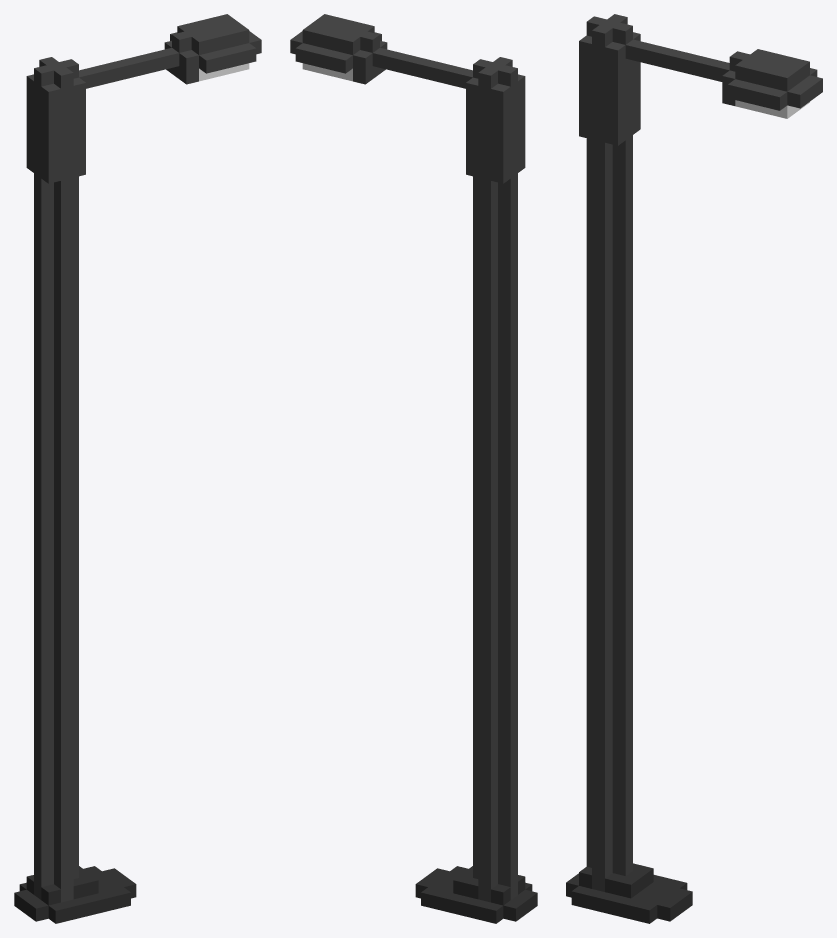
The model's file is light.obj.
The picture shows the model from 3 angles, left to right: view 1: azimuth 30°, elevation 25°; view 2: azimuth 150°, elevation 25°; view 3: azimuth 330°, elevation 25°; orthographic projection. The views are drawn at different scales.
Size of the model in its own units: 1.8 by 6.4 by 0.5.
1 material, 1 textured.
